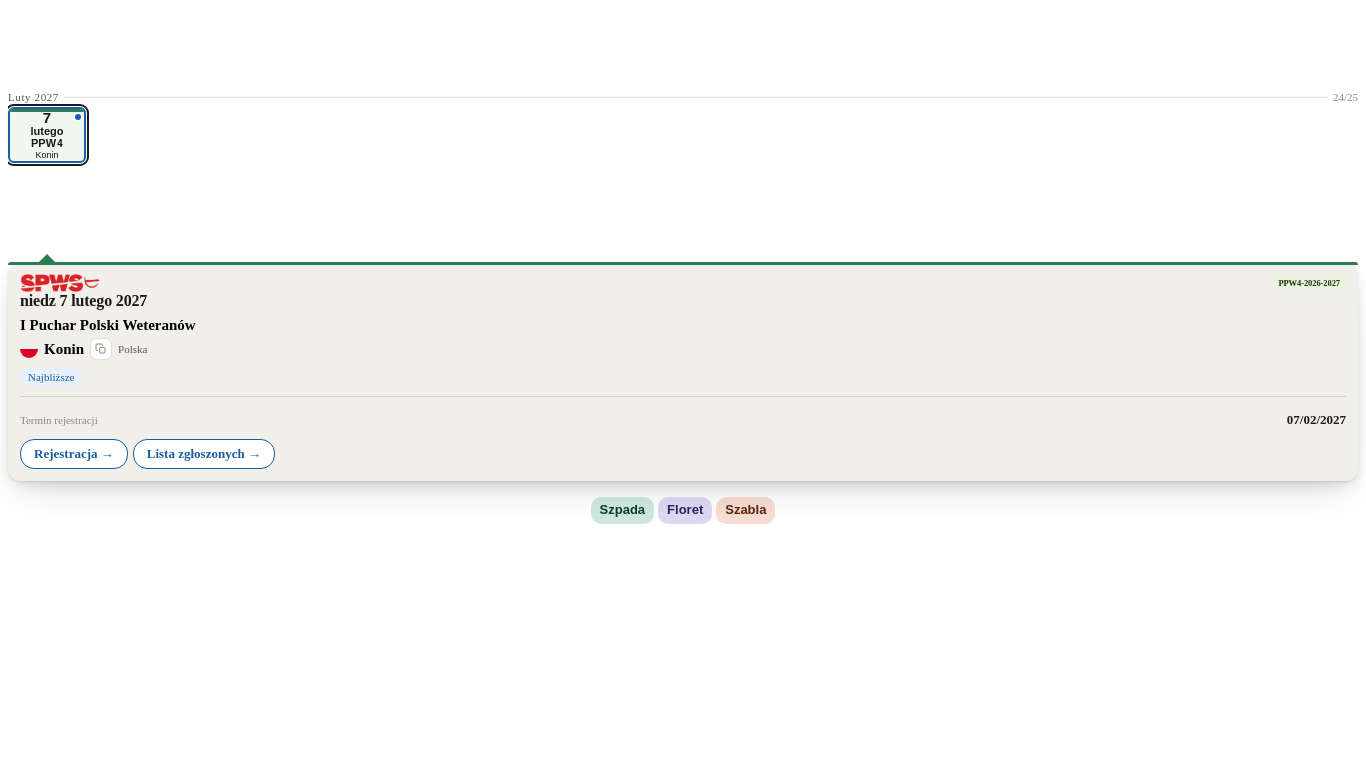
it: CalendarView orchestrator (ADR-084) › CV.14: closing the modal returns to the calendar
Step 1. Click the link with class "registration-link" → (74, 454), box [20,439,128,469]
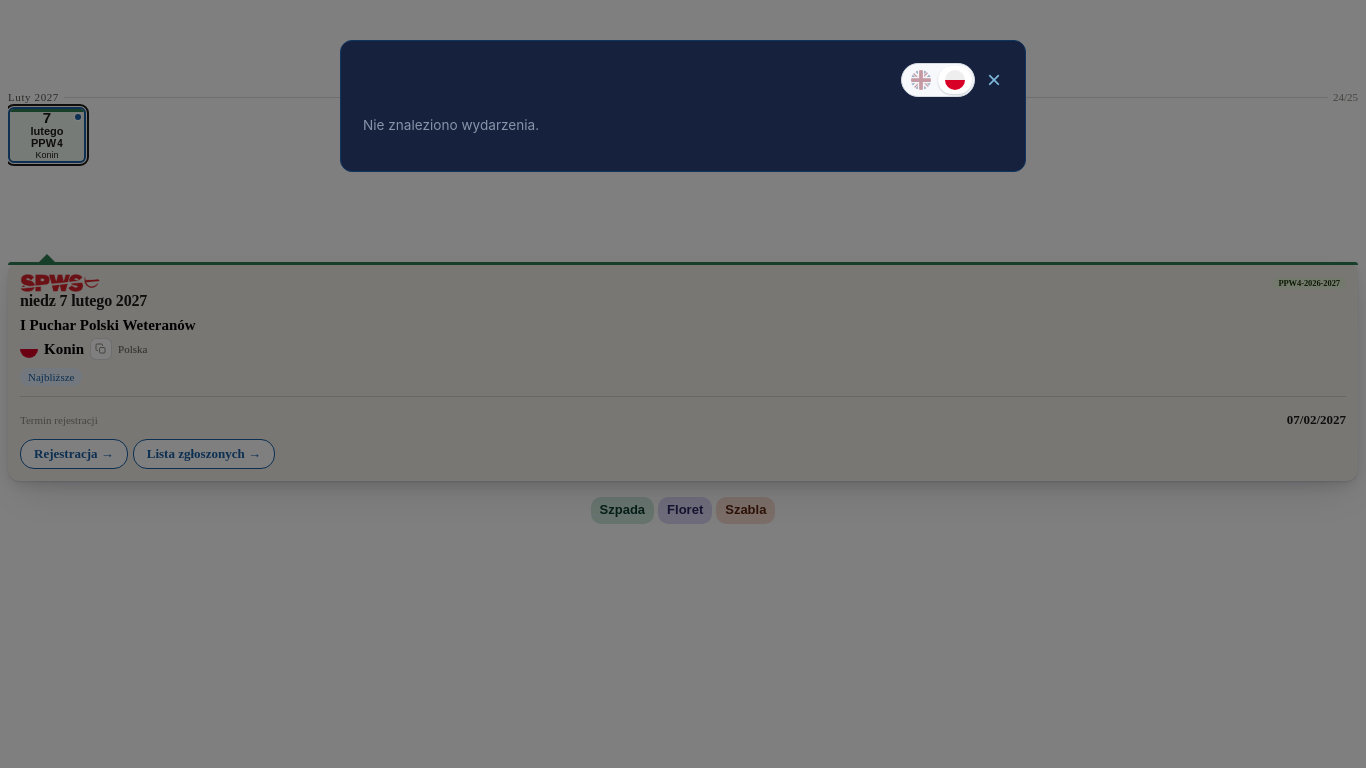
Now the text "Nie znaleziono wydarzenia." is shown, box [363,117,539,133]
Step 2. Click the element with class "modal-overlay" → (683, 384), box [0,0,1365,767]
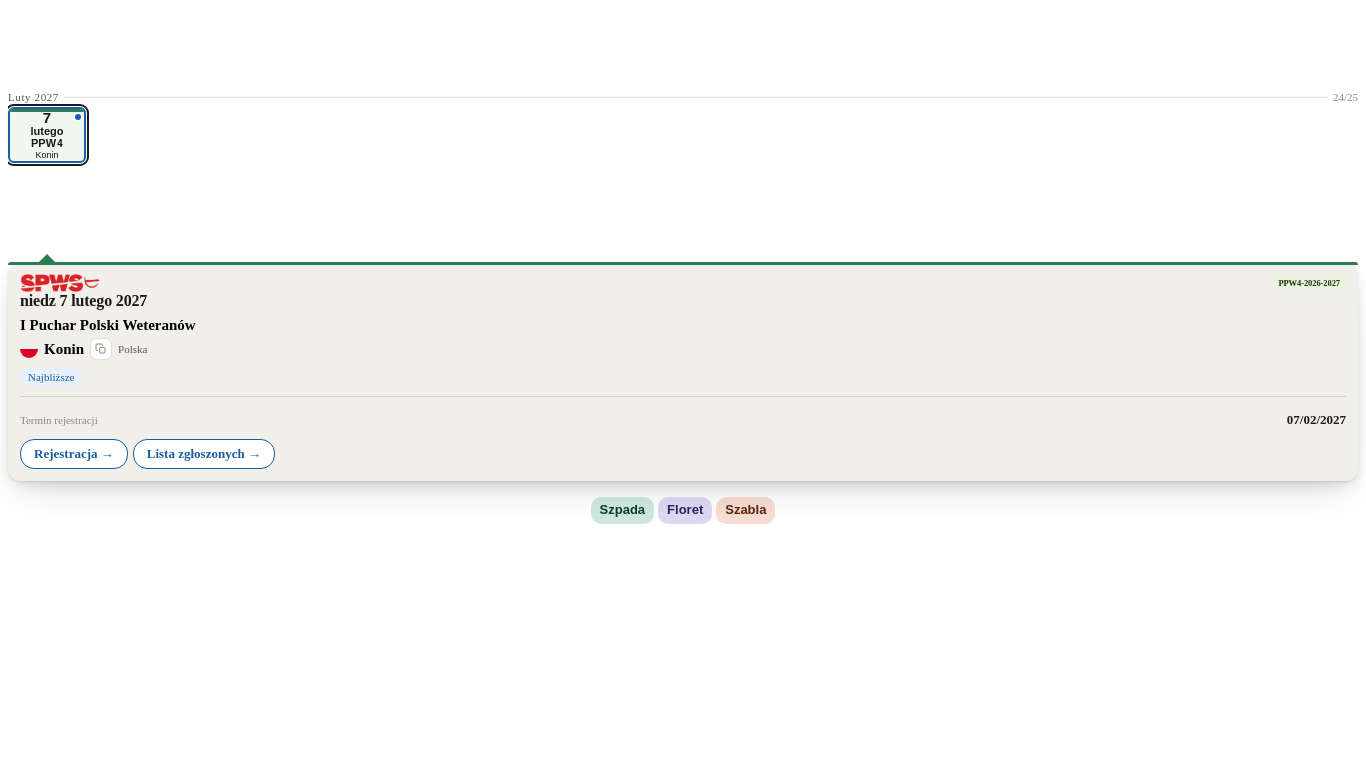
Expected: the element that starts with "PPW4-2026-2027" is shown, [8,262,1358,481]
Now the element with class "modal-overlay" is gone
